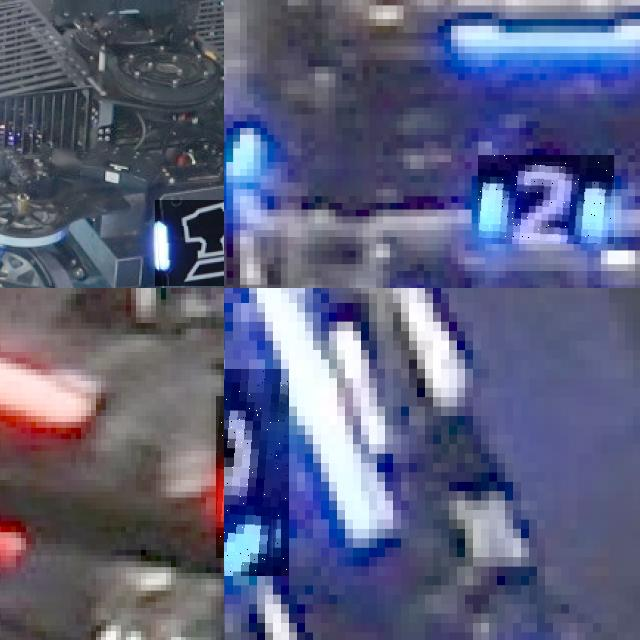B2: (478, 155, 614, 244)
B3: (224, 369, 289, 576)
Bs: (155, 200, 224, 286)
